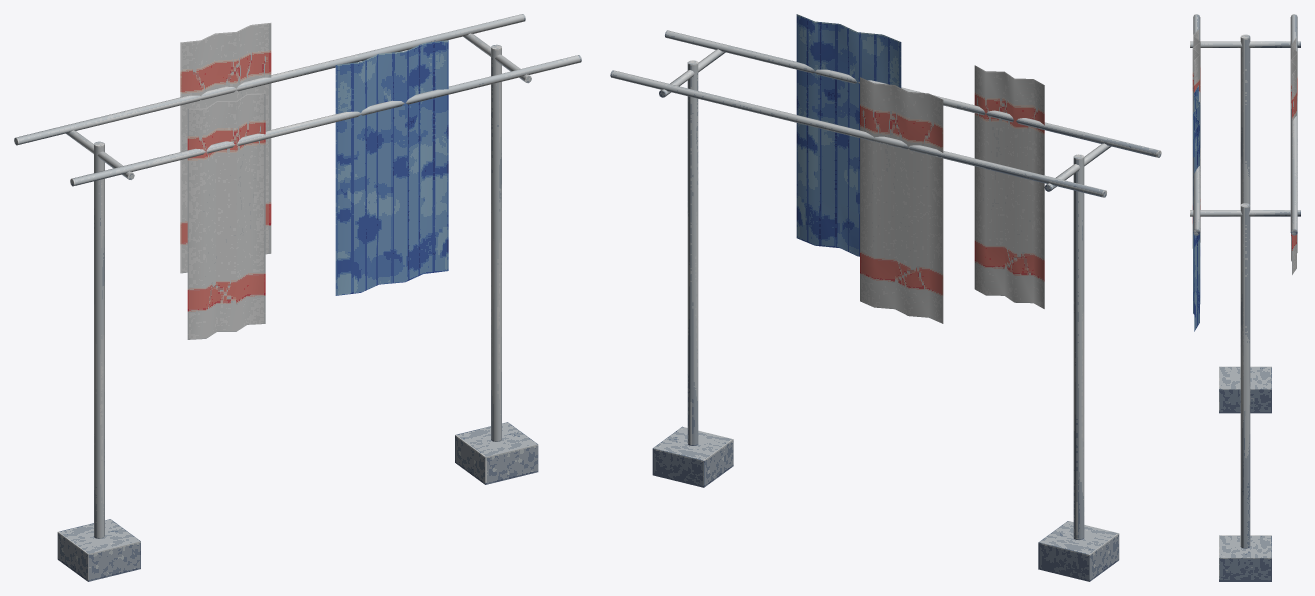
The model's file is laundry_pole_own.glb.
3 renders of one model, left to right at view 1: azimuth 30°, elevation 25°; view 2: azimuth 150°, elevation 25°; view 3: azimuth 270°, elevation 25°, orthographic. The views are drawn at different scales.
Parts seen in each view (by area): view 1: mesh; view 2: mesh; view 3: mesh.
Boxes of the visible parts, x1,y1,x2,y2 form: mesh: (14,14,581,581); mesh: (610,14,1161,581); mesh: (1190,14,1300,581).
Bounding box in the file's own units: 2.04 × 1.82 × 0.4439.
1 material, 1 textured.
